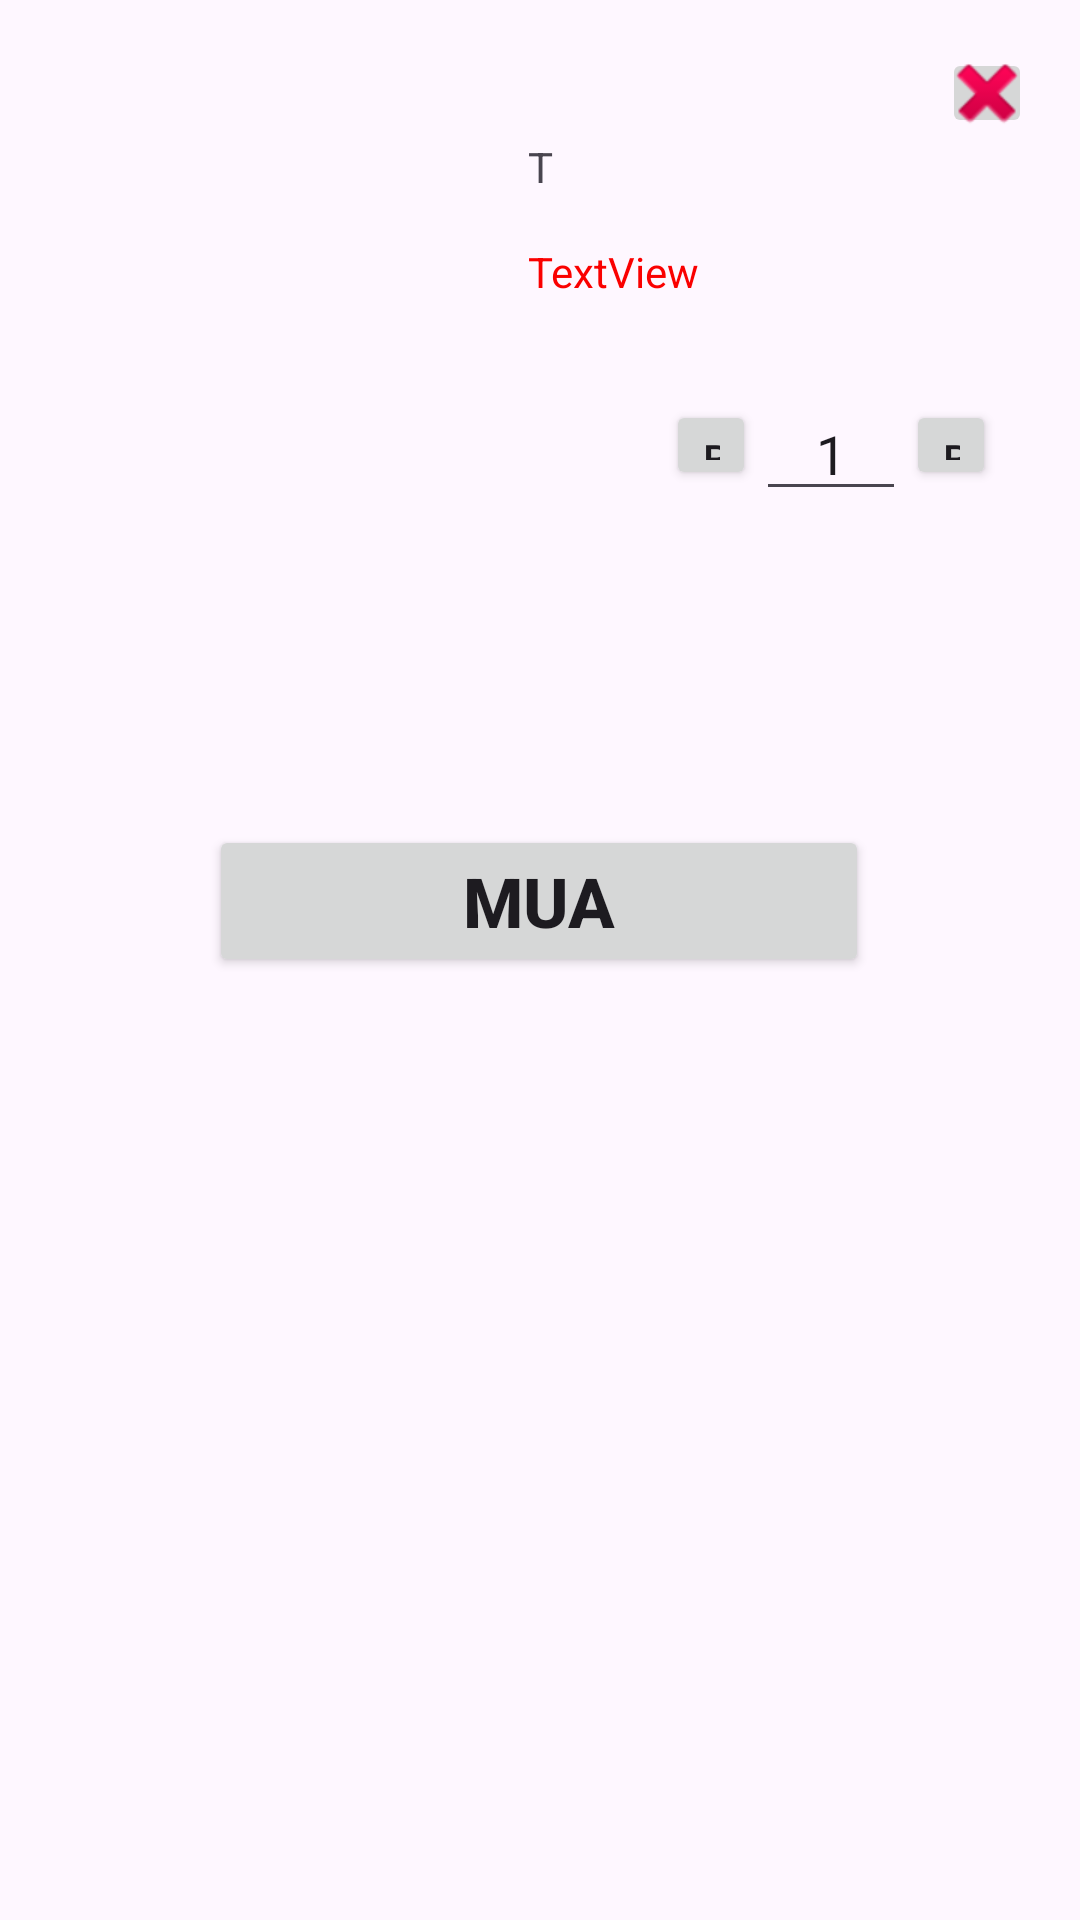

Screen size 1080w x 1920h. Icon name, then its center in pixels as (x,y):
delete: (987,93)
